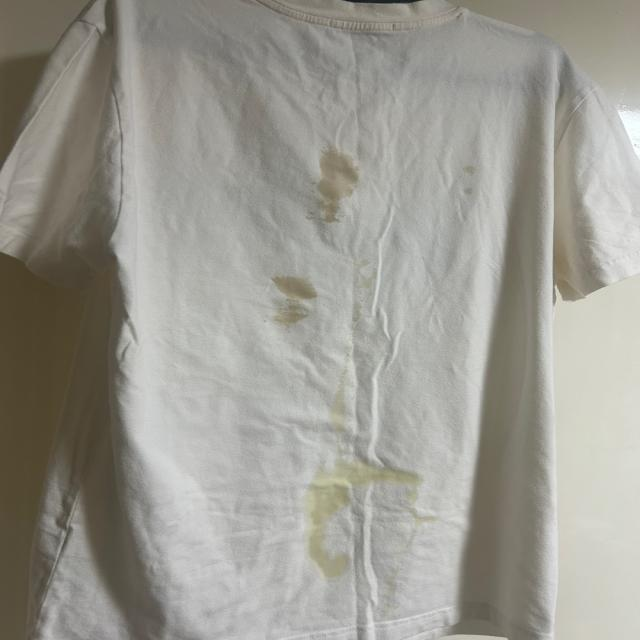stain: (296, 487, 353, 582), (312, 448, 414, 490), (309, 144, 357, 229), (273, 270, 309, 337), (320, 392, 344, 417), (406, 506, 438, 524), (464, 159, 476, 205)
